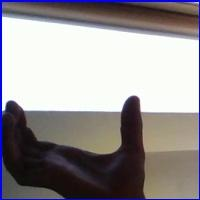space: (0, 66, 167, 195)
